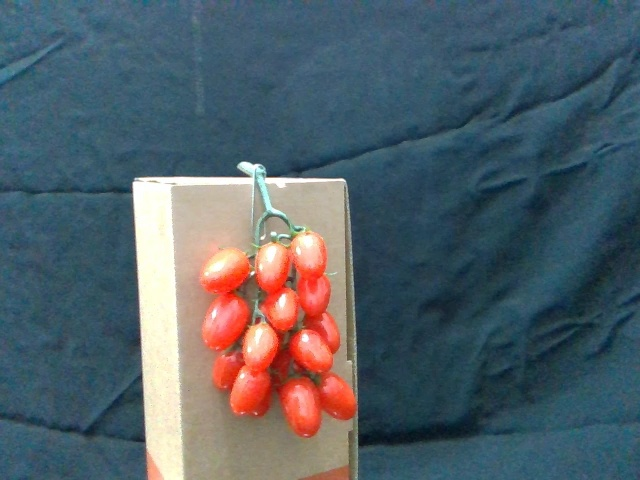tomato: (201, 294, 251, 356), (279, 377, 326, 440), (200, 246, 251, 292), (317, 374, 361, 424), (289, 227, 329, 279), (289, 329, 333, 376), (231, 367, 270, 418), (244, 323, 280, 374), (259, 240, 292, 292), (259, 288, 298, 331), (297, 275, 332, 318), (213, 350, 247, 393), (307, 310, 341, 351)
